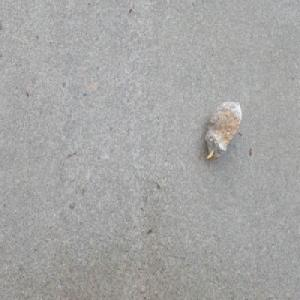Rock: (204, 98, 243, 163)
